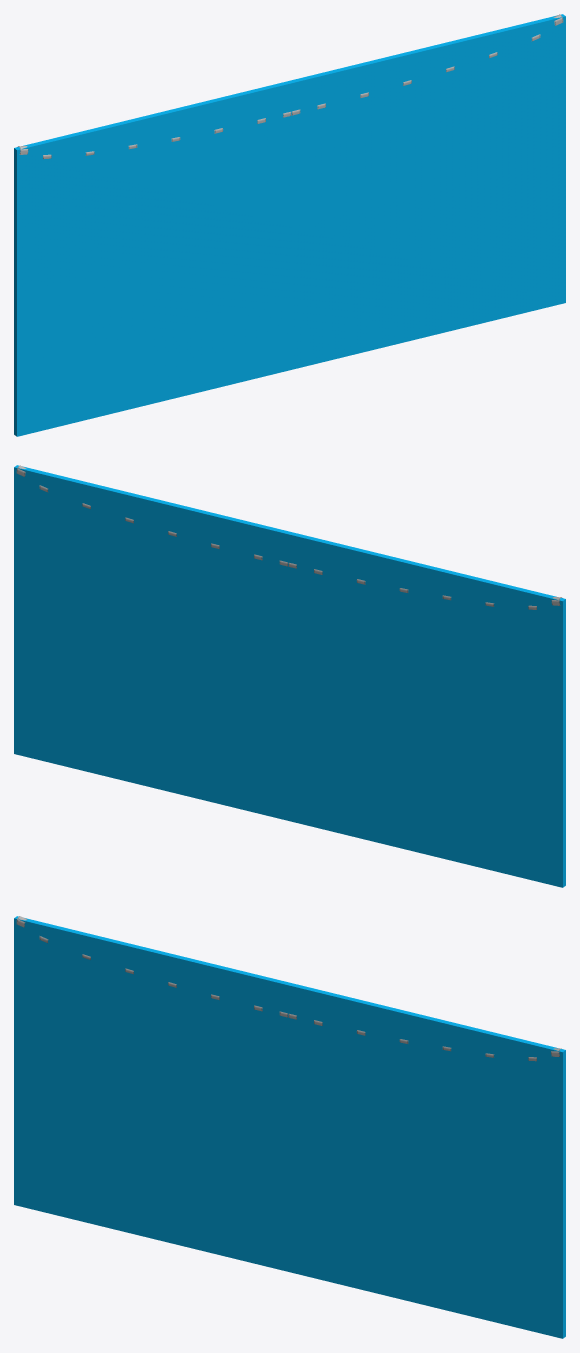
File: JWC_Camp_Jinmaku_A_01_x4.fbx
3 views of the same model, one above another, from view 1: azimuth 30°, elevation 25°; view 2: azimuth 150°, elevation 25°; view 3: azimuth 330°, elevation 25° (orthographic).
Visible parts, largest first — view 1: C_JWC_Camp_Jinmaku_A_01_x4, JWC_Camp_Jinmaku_A_01_x4; view 2: C_JWC_Camp_Jinmaku_A_01_x4, JWC_Camp_Jinmaku_A_01_x4; view 3: C_JWC_Camp_Jinmaku_A_01_x4, JWC_Camp_Jinmaku_A_01_x4.
Boxes of the visible parts, x1,y1,x2,y2 form: C_JWC_Camp_Jinmaku_A_01_x4: (14, 14, 565, 436); JWC_Camp_Jinmaku_A_01_x4: (18, 14, 563, 159); C_JWC_Camp_Jinmaku_A_01_x4: (14, 465, 565, 887); JWC_Camp_Jinmaku_A_01_x4: (16, 465, 561, 609); C_JWC_Camp_Jinmaku_A_01_x4: (14, 916, 565, 1338); JWC_Camp_Jinmaku_A_01_x4: (16, 916, 561, 1061).
Bounding box in the file's own units: 4 × 2.01 × 0.0469.
